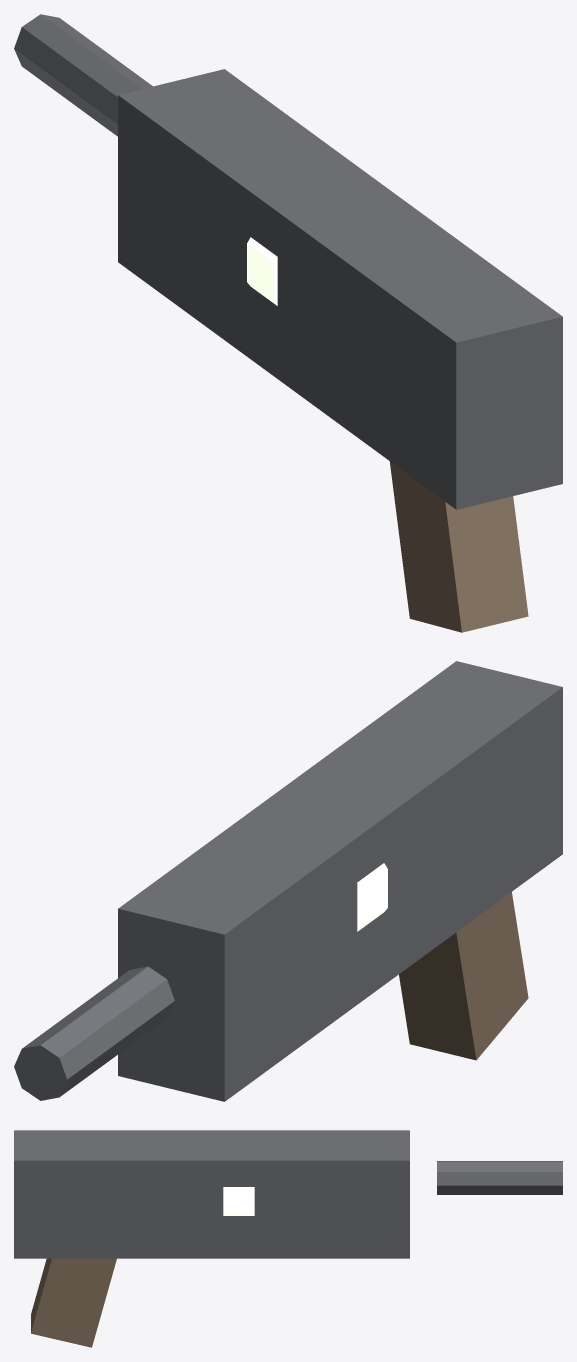
The model's file is gun_energy.glb.
3 views of the same model, one above another, from view 1: azimuth 30°, elevation 25°; view 2: azimuth 150°, elevation 25°; view 3: azimuth 270°, elevation 25° (orthographic). The views are drawn at different scales.
Visible parts, largest first — view 1: Gun_energy; view 2: Gun_energy; view 3: Gun_energy.
Part boxes in pixels (left/top/right/bottom): Gun_energy: left=14, top=14, right=562, bottom=632; Gun_energy: left=14, top=661, right=562, bottom=1101; Gun_energy: left=14, top=1130, right=562, bottom=1347.
Size of the model in its own units: 0.0856 by 0.2365 by 0.61.
